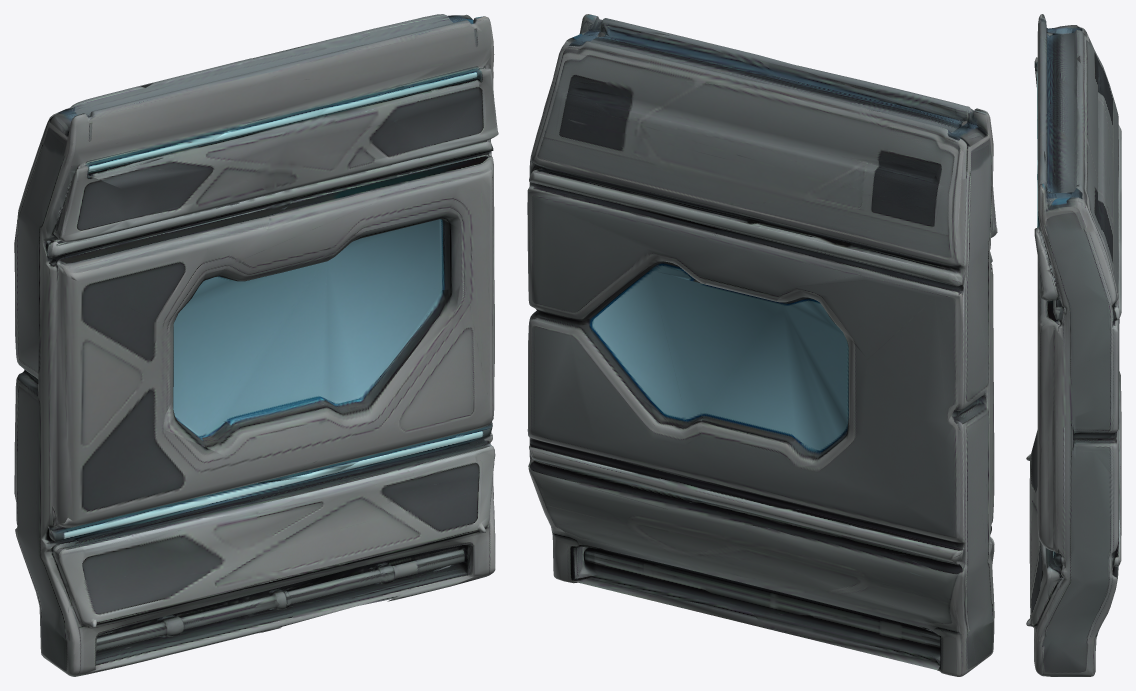
Rendered from wall.glb.
3 renders of one model, left to right at view 1: azimuth 30°, elevation 25°; view 2: azimuth 150°, elevation 25°; view 3: azimuth 270°, elevation 25°, orthographic. The views are drawn at different scales.
Visible parts, largest first — view 1: Mesh_0; view 2: Mesh_0; view 3: Mesh_0.
Boxes of the visible parts, left/top/right/bottom form: Mesh_0: left=14, top=14, right=498, bottom=676; Mesh_0: left=527, top=14, right=997, bottom=676; Mesh_0: left=1026, top=14, right=1121, bottom=676.
Bounding box in the file's own units: 1.68 × 2 × 0.3545.
Materials: 1 (1 with a texture image).
